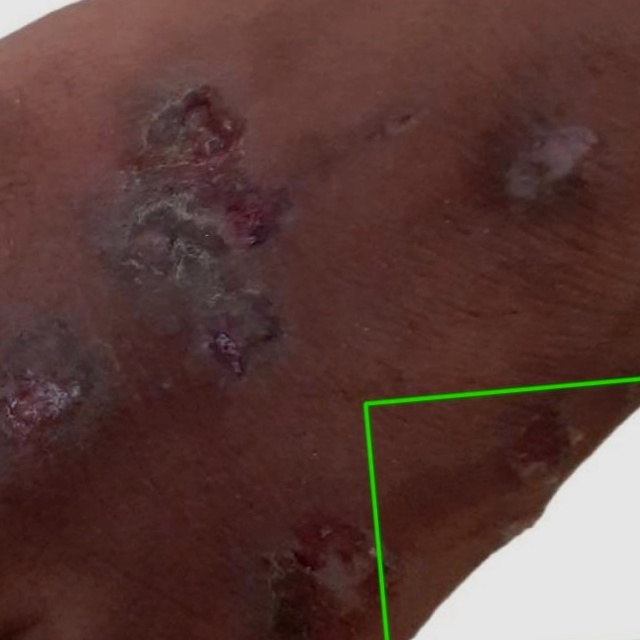Eczema: (366, 380, 639, 639)
